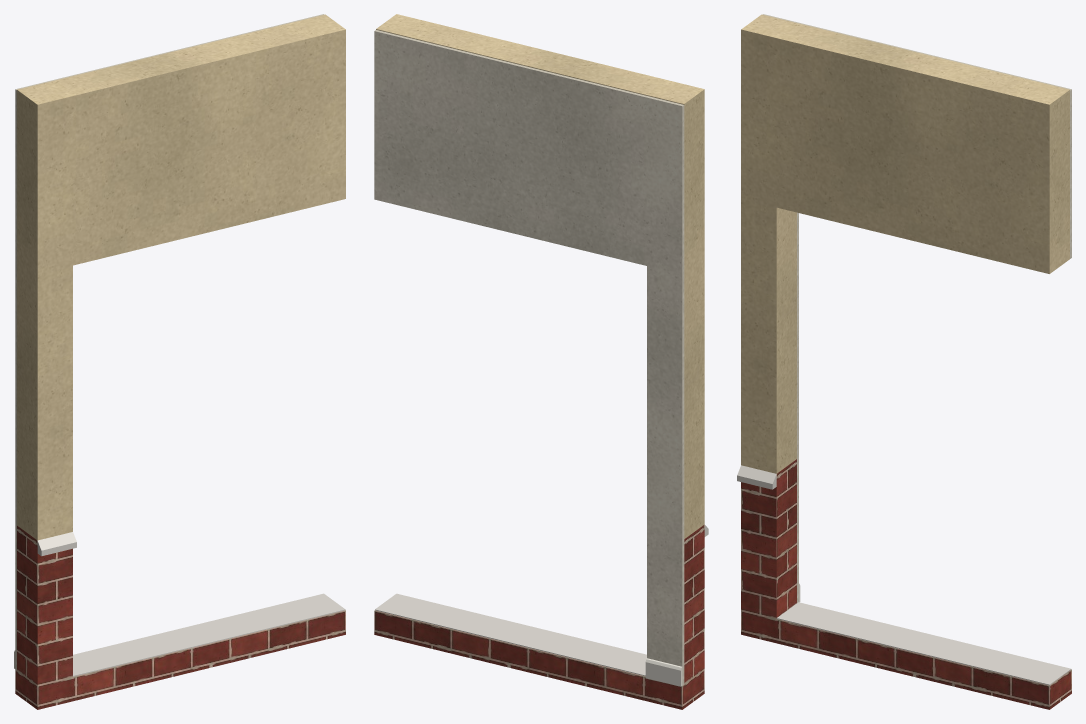
Rendered from w_open_a.glb.
3 renders of one model, left to right at view 1: azimuth 30°, elevation 25°; view 2: azimuth 150°, elevation 25°; view 3: azimuth 330°, elevation 25°, orthographic.
Parts seen in each view (by area): view 1: w_open_a_render, w_open_a_brick, w_open_a_cill, w_open_a_plaster; view 2: w_open_a_plaster, w_open_a_render, w_open_a_brick, w_open_a_cill, w_open_a_trim; view 3: w_open_a_render, w_open_a_brick, w_open_a_cill, w_open_a_plaster.
Part boxes in pixels (x1,y1,x2,y2): w_open_a_render: [17, 14, 345, 540]; w_open_a_brick: [15, 526, 345, 709]; w_open_a_cill: [37, 532, 345, 676]; w_open_a_plaster: [15, 14, 323, 670]; w_open_a_plaster: [374, 30, 684, 685]; w_open_a_render: [376, 14, 704, 538]; w_open_a_brick: [374, 524, 704, 709]; w_open_a_cill: [375, 525, 708, 676]; w_open_a_trim: [645, 658, 682, 686]; w_open_a_render: [741, 14, 1069, 473]; w_open_a_brick: [741, 459, 1071, 709]; w_open_a_cill: [737, 465, 1071, 685]; w_open_a_plaster: [763, 14, 1071, 602].
Bounding box in the file's own units: 2 × 3.75 × 0.311.
5 materials, 3 textured.
